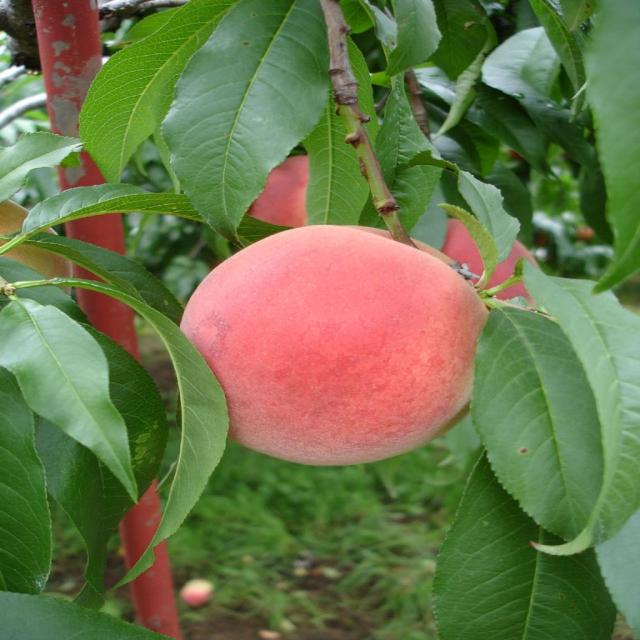Peach: (177, 223, 484, 466), (441, 219, 542, 305), (250, 153, 311, 226)
